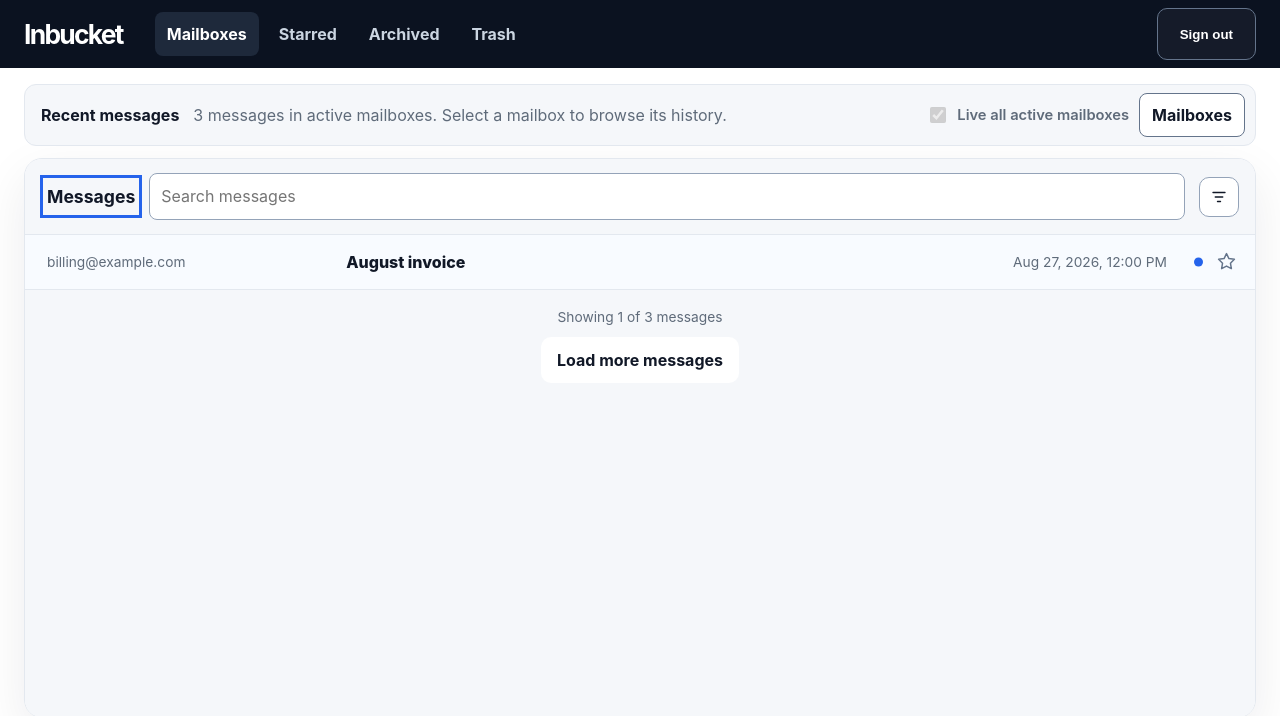
Test: recent messages › paginates and filters recent history across mailboxes
This screenshot has width=1280, height=716.
Check: the button with aria-label "Unread: August invoice" is shown, box top-left (25, 235), bottom-right (1255, 289)
Check: the text "Showing 1 of 3 messages" is shown, box top-left (558, 306), bottom-right (722, 329)
Click the button "Load more messages": (640, 360) top-left (541, 337), bottom-right (739, 383)
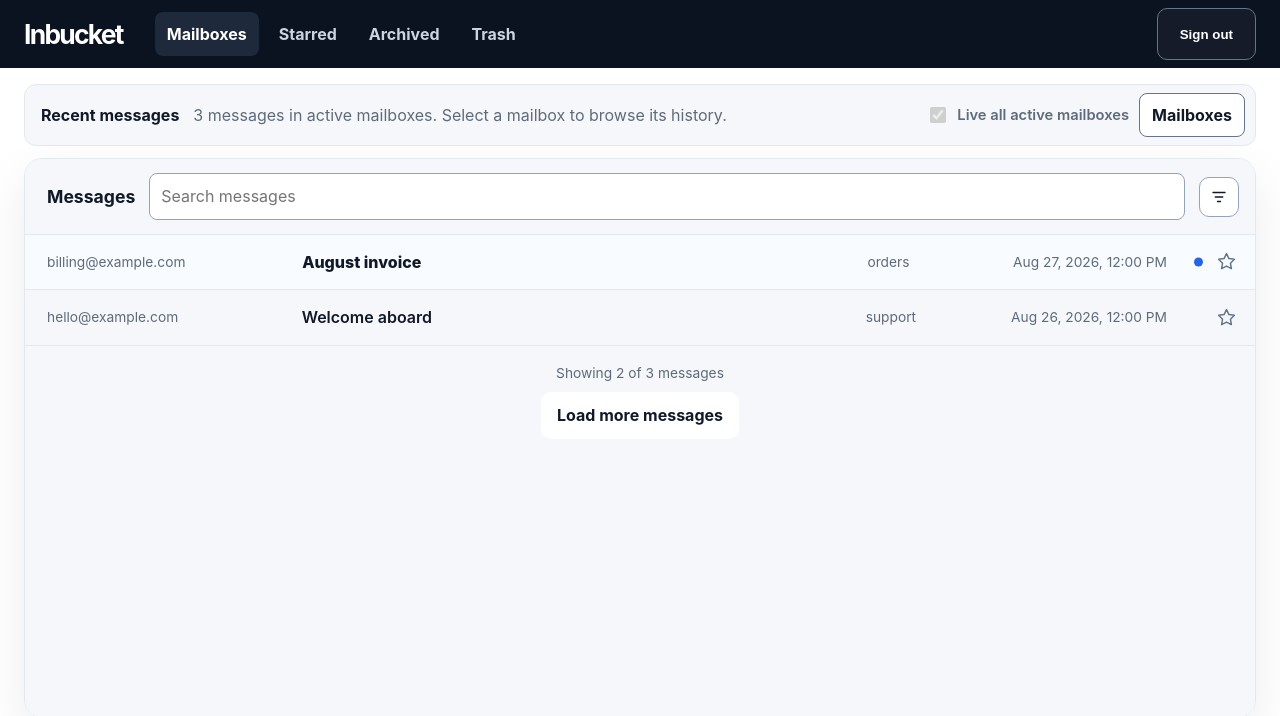
Check: the button with aria-label "Read: Welcome aboard" is shown, box top-left (25, 290), bottom-right (1255, 345)
Check: the text "Showing 2 of 3 messages" is shown, box top-left (556, 362), bottom-right (724, 384)
In the search field labelled "Search messages": (667, 197) top-left (149, 173), bottom-right (1185, 220), type "invoice"
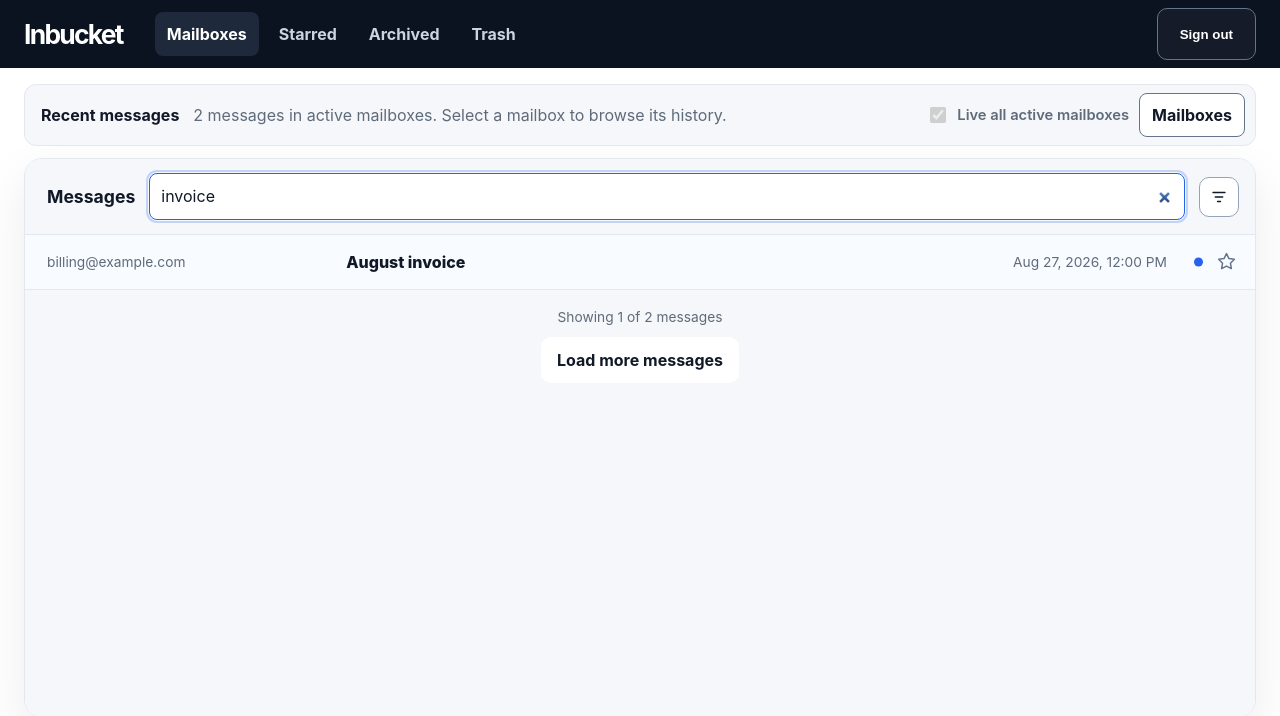
Check: the text "Showing 1 of 2 messages" is shown, box top-left (558, 306), bottom-right (722, 329)
Click the button "Load more messages": (640, 360) top-left (541, 337), bottom-right (739, 383)
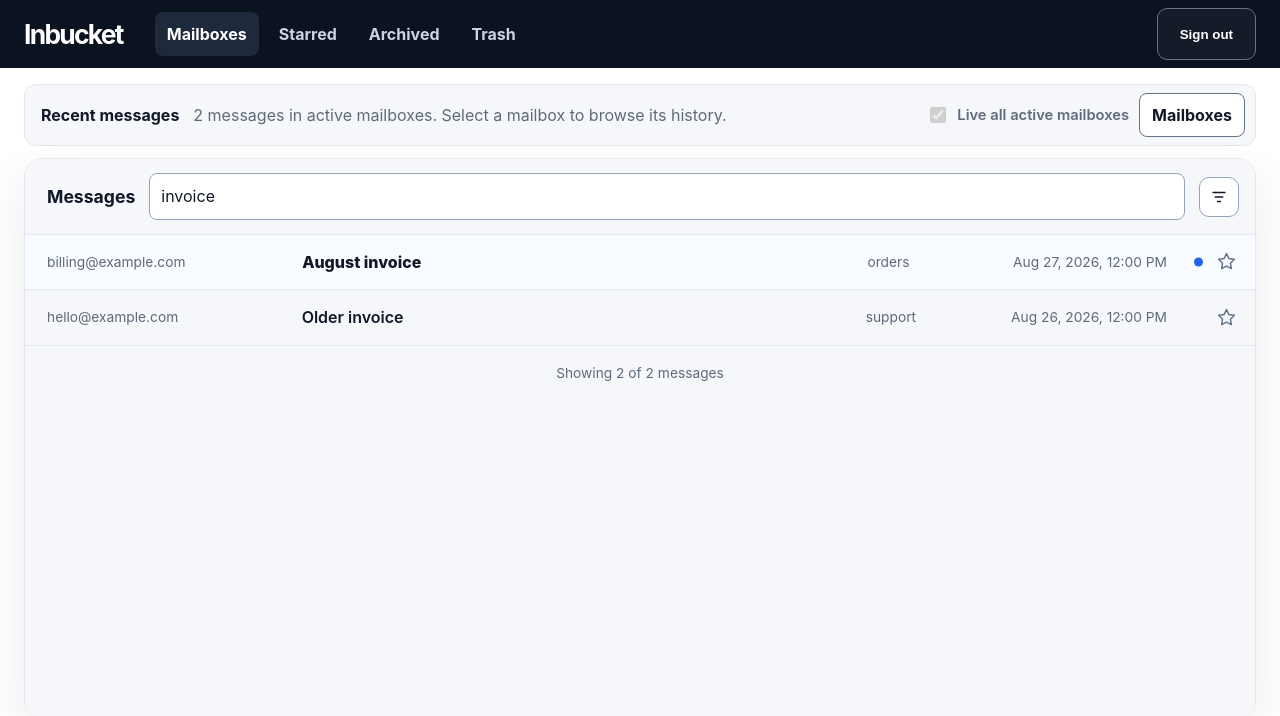
Check: the button with aria-label "Read: Older invoice" is shown, box top-left (25, 290), bottom-right (1255, 345)
Check: the text "Showing 2 of 2 messages" is shown, box top-left (556, 362), bottom-right (724, 384)
Click the button named "Filter and sort messages": (1219, 197) top-left (1199, 177), bottom-right (1239, 217)
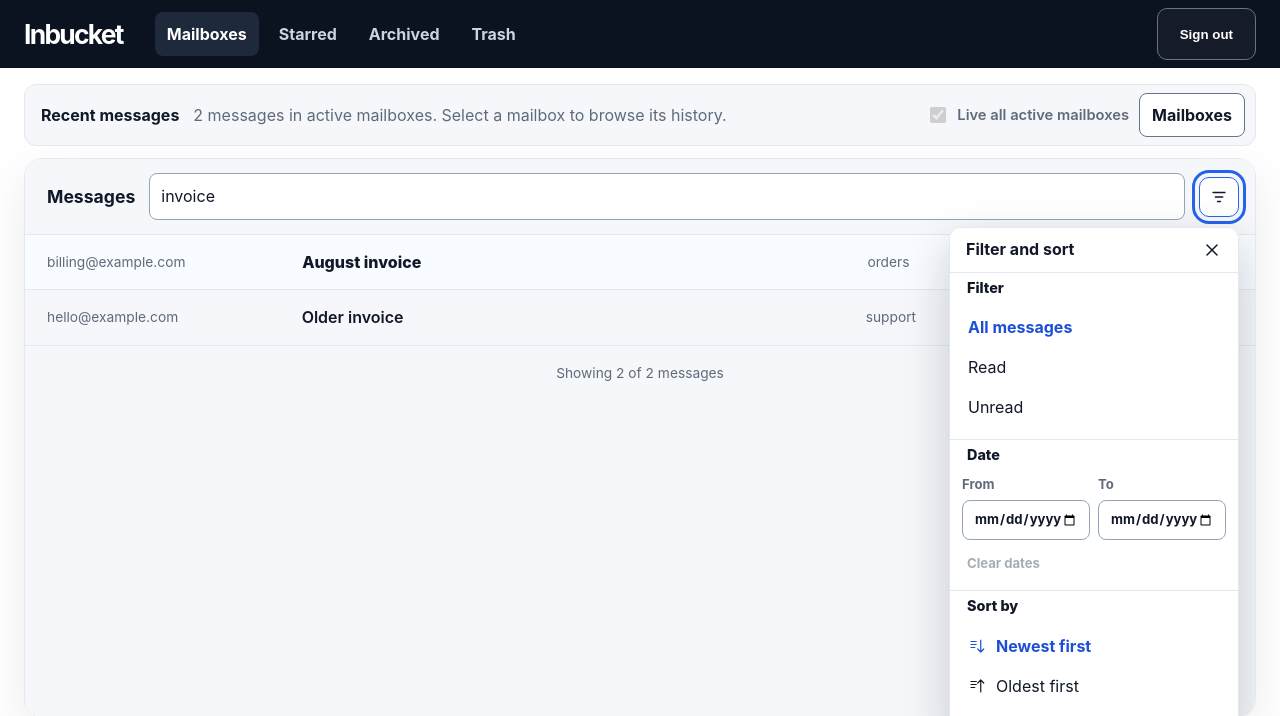
Click the radio button labelled "Read": (987, 367) top-left (968, 357), bottom-right (1006, 377)
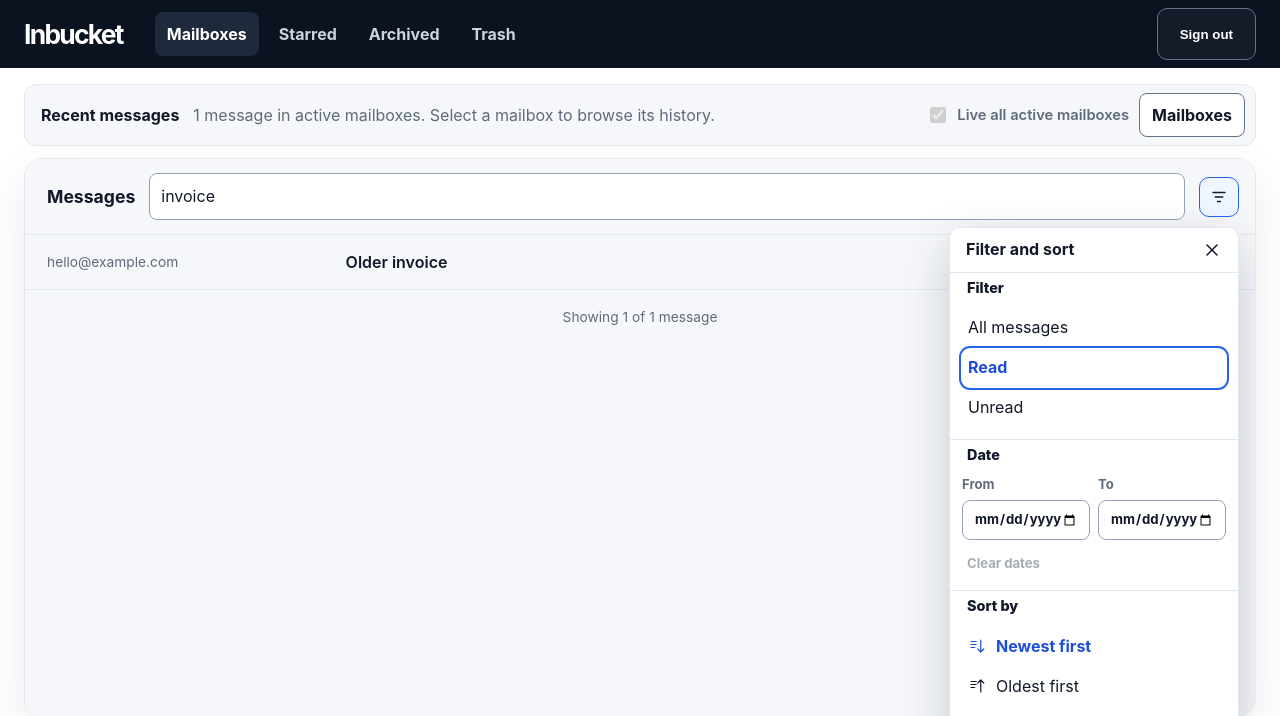
Check: the button "Load more messages" is not shown
Check: the button with aria-label "Read: Older invoice" is shown, box top-left (25, 235), bottom-right (1255, 289)
Check: the text "Showing 1 of 1 message" is shown, box top-left (563, 306), bottom-right (718, 329)
